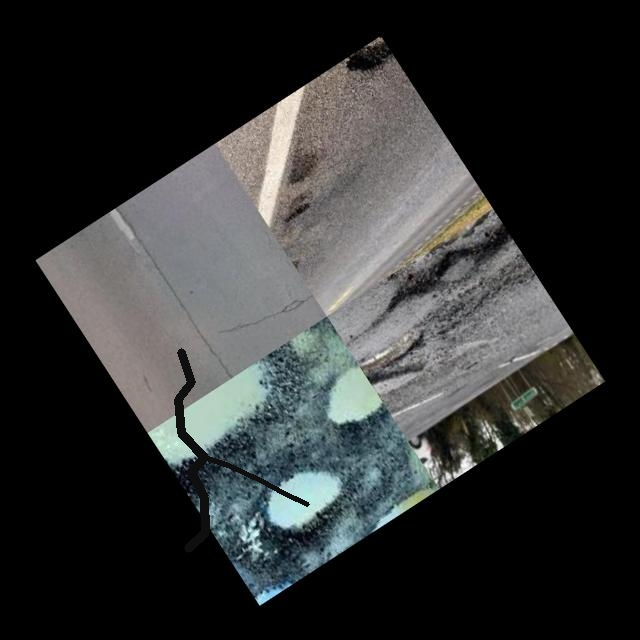road_crack: (160, 342, 224, 558)
